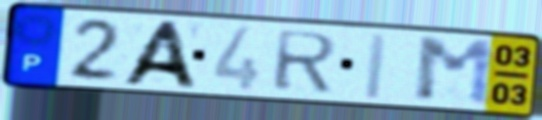2: (66, 16, 124, 83)
4: (209, 24, 264, 94)
A: (115, 19, 201, 91)
I: (360, 30, 393, 102)
M: (414, 36, 496, 108)
R: (270, 29, 341, 94)
